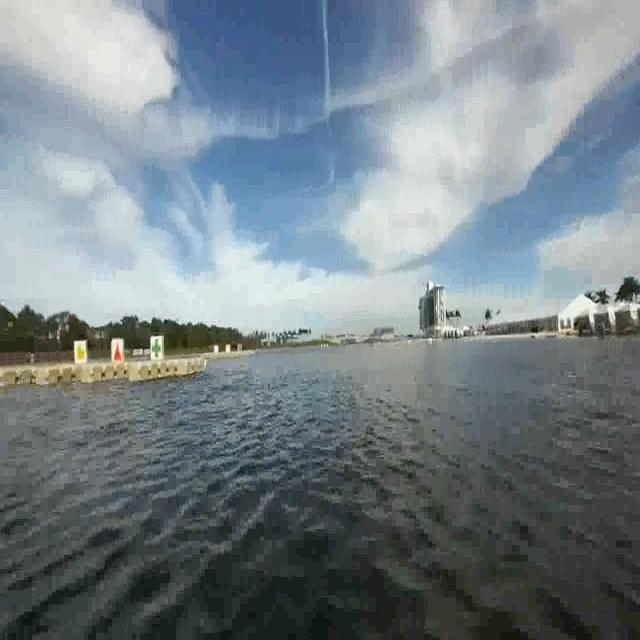blue-cross: (150, 336, 164, 362)
red-dot: (112, 336, 125, 364)
yellow-duck: (75, 341, 86, 365)
